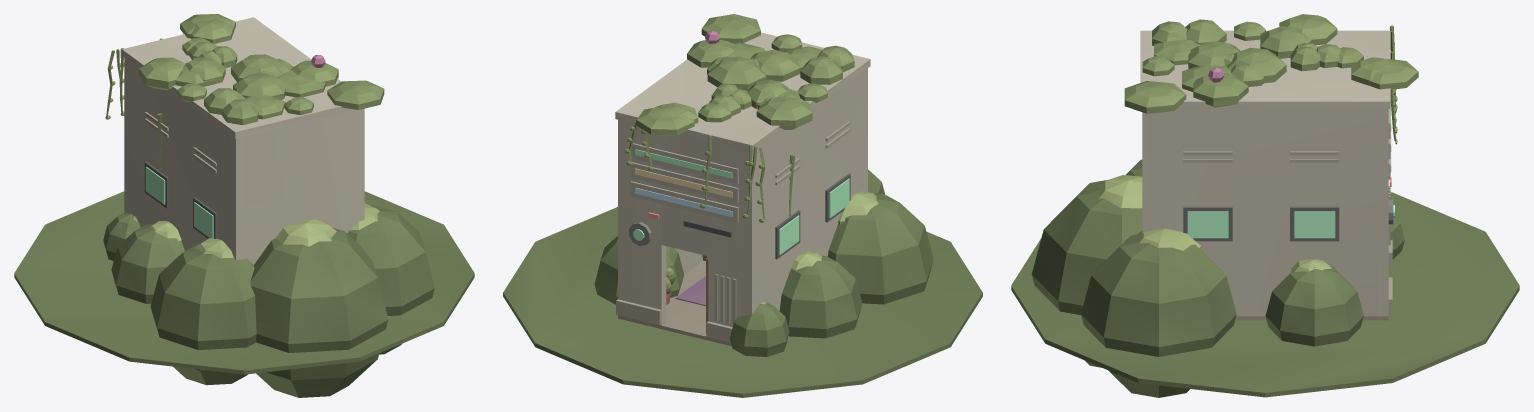
File: MossServerCafe.fbx
3 renders of one model, left to right at view 1: azimuth 30°, elevation 25°; view 2: azimuth 150°, elevation 25°; view 3: azimuth 270°, elevation 25°, orthographic. The views are drawn at different scales.
Visible parts, largest first — view 1: Bld_MossServerCafe, Bld_MossServerCafe_Roof; view 2: Bld_MossServerCafe, Bld_MossServerCafe_Roof; view 3: Bld_MossServerCafe, Bld_MossServerCafe_Roof.
Boxes of the visible parts, bbox=[...] form: Bld_MossServerCafe: bbox=[14, 58, 474, 397]; Bld_MossServerCafe_Roof: bbox=[105, 14, 384, 138]; Bld_MossServerCafe: bbox=[503, 68, 982, 397]; Bld_MossServerCafe_Roof: bbox=[615, 14, 870, 222]; Bld_MossServerCafe: bbox=[1011, 103, 1519, 397]; Bld_MossServerCafe_Roof: bbox=[1124, 14, 1418, 144].
Size of the model in its own units: 12.4 by 8.72 by 12.4.
